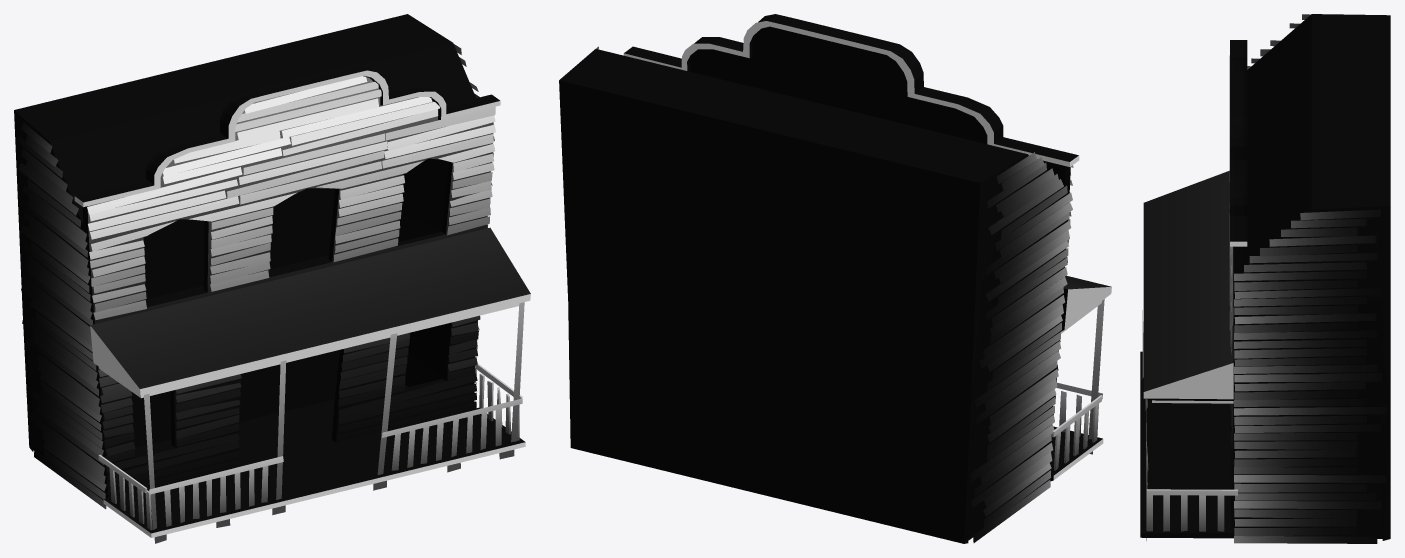
Rendered from Building2.glb.
3 renders of one model, left to right at view 1: azimuth 30°, elevation 25°; view 2: azimuth 150°, elevation 25°; view 3: azimuth 270°, elevation 25°, orthographic. The views are drawn at different scales.
Parts seen in each view (by area): view 1: Building2; view 2: Building2; view 3: Building2.
Part boxes in pixels (x1=…): Building2: x1=14, y1=14, x2=530, y2=543; Building2: x1=559, y1=14, x2=1111, y2=543; Building2: x1=1140, y1=14, x2=1390, y2=543.
Size of what is drawn, in the model's own units: 13.55 by 11.81 by 7.09.
1 material, 1 textured.
